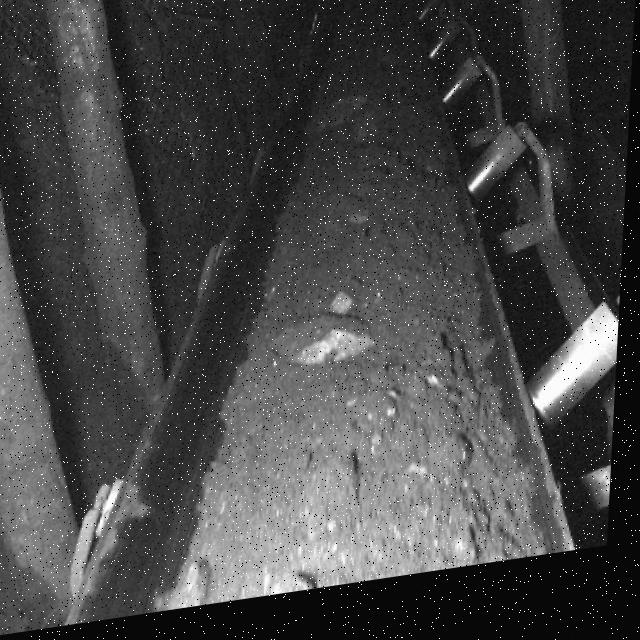large_sized_coal: (278, 322, 380, 381), (166, 564, 220, 618), (267, 585, 328, 606)
